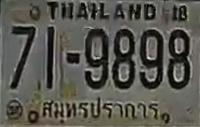1: (46, 26, 54, 88)
7: (10, 25, 35, 88), (11, 25, 35, 70)
8: (167, 29, 190, 89), (112, 29, 135, 88)
9: (139, 29, 163, 89), (84, 28, 108, 88)
SPK: (40, 93, 161, 123)
